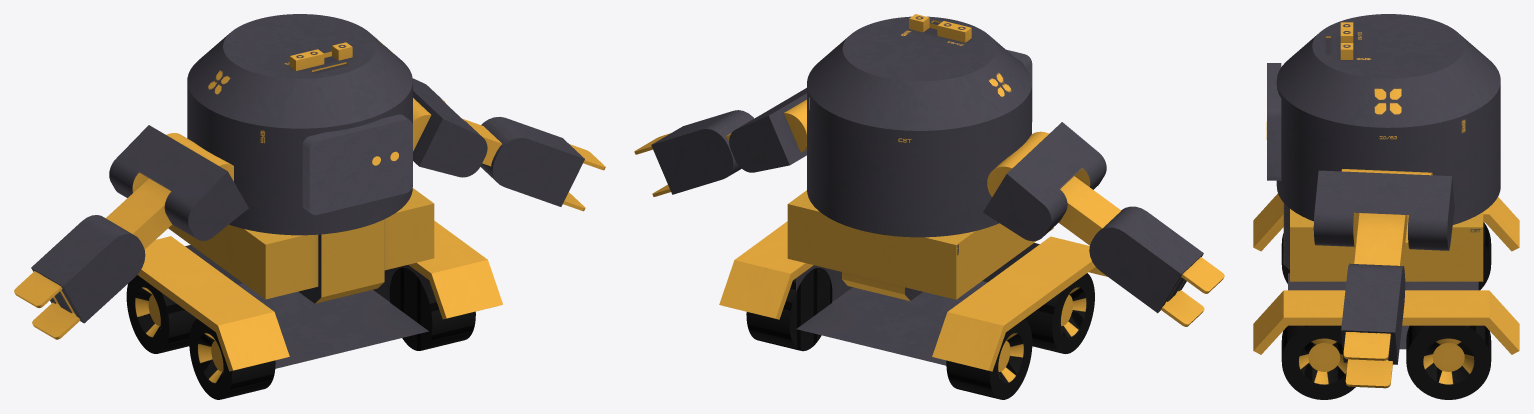
The picture shows the model from 3 angles, left to right: view 1: azimuth 30°, elevation 25°; view 2: azimuth 150°, elevation 25°; view 3: azimuth 270°, elevation 25°; orthographic projection.
Parts seen in each view (by area): view 1: Cube.001_Cube.002, Cube.001_Cube.001, arm_rot, Cube.001_Cube.004, Cube_Cube.003, Cube_Cube.002; view 2: Cube.001_Cube.001, Cube.001_Cube.002, arm_rot, Cube.001_Cube.004, Cube_Cube.003; view 3: Cube.001_Cube.001, Cube.001_Cube.002, arm_rot, Cube_Cube.003, Cube.001_Cube.004, Cube_Cube.002.
Boxes of the visible parts, x1=… form: Cube.001_Cube.002: x1=126, y1=221, x2=502, y2=399; Cube.001_Cube.001: x1=187, y1=14, x2=412, y2=235; arm_rot: x1=106, y1=78, x2=501, y2=249; Cube.001_Cube.004: x1=14, y1=117, x2=605, y2=339; Cube_Cube.003: x1=168, y1=188, x2=434, y2=303; Cube_Cube.002: x1=302, y1=114, x2=412, y2=215; Cube.001_Cube.001: x1=807, y1=14, x2=1031, y2=237; Cube.001_Cube.002: x1=719, y1=221, x2=1107, y2=399; arm_rot: x1=725, y1=88, x2=1121, y2=245; Cube.001_Cube.004: x1=634, y1=110, x2=1224, y2=326; Cube_Cube.003: x1=787, y1=190, x2=1053, y2=301; Cube.001_Cube.001: x1=1276, y1=14, x2=1500, y2=224; Cube.001_Cube.002: x1=1253, y1=193, x2=1519, y2=399; arm_rot: x1=1313, y1=169, x2=1454, y2=265; Cube_Cube.003: x1=1283, y1=203, x2=1483, y2=281; Cube.001_Cube.004: x1=1341, y1=263, x2=1405, y2=388; Cube_Cube.002: x1=1266, y1=63, x2=1281, y2=180.
Bounding box in the file's own units: 5.85 × 2.98 × 2.36.
Materials: 6 (6 with a texture image).
